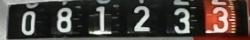digits: (133, 6, 151, 32), (172, 8, 190, 33), (212, 6, 228, 32), (56, 7, 72, 32), (21, 10, 36, 35), (95, 6, 105, 30)
